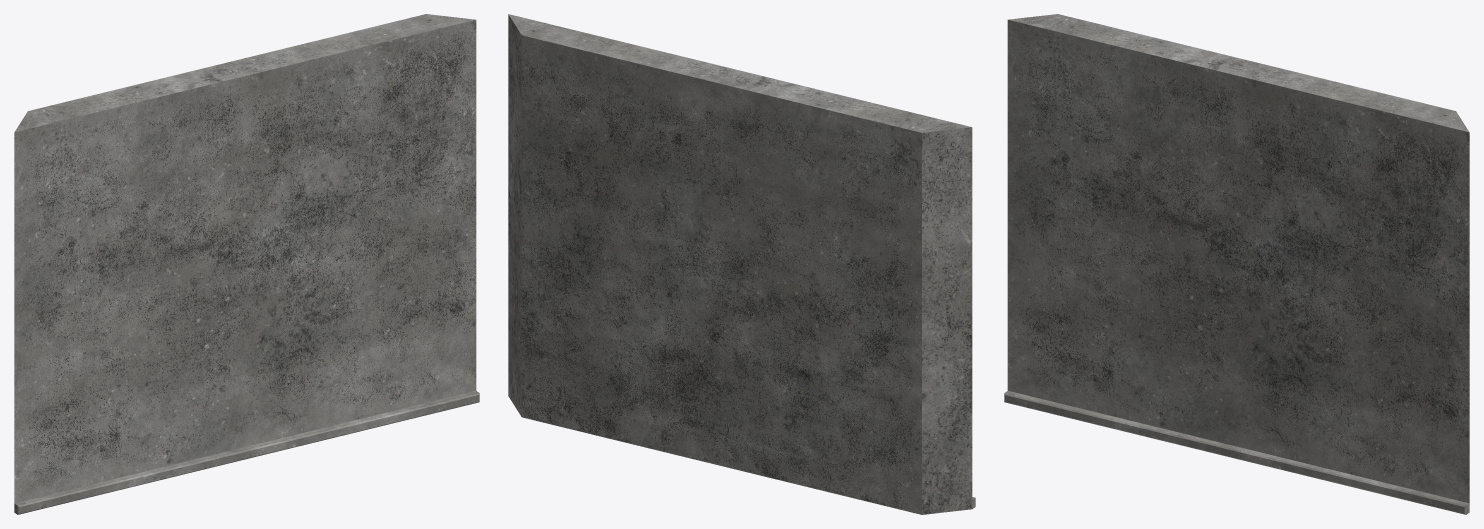
The model's file is Wall04 (1).fbx.
3 views of the same model, side by side, from view 1: azimuth 30°, elevation 25°; view 2: azimuth 150°, elevation 25°; view 3: azimuth 330°, elevation 25° (orthographic).
Visible parts, largest first — view 1: Wall04__1_; view 2: Wall04__1_; view 3: Wall04__1_.
Boxes of the visible parts, bbox=[...] form: Wall04__1_: bbox=[14, 14, 479, 514]; Wall04__1_: bbox=[508, 14, 975, 514]; Wall04__1_: bbox=[1004, 14, 1469, 514].
Bounding box in the file's own units: 508 × 400 × 42.41.
1 material, 1 textured.
